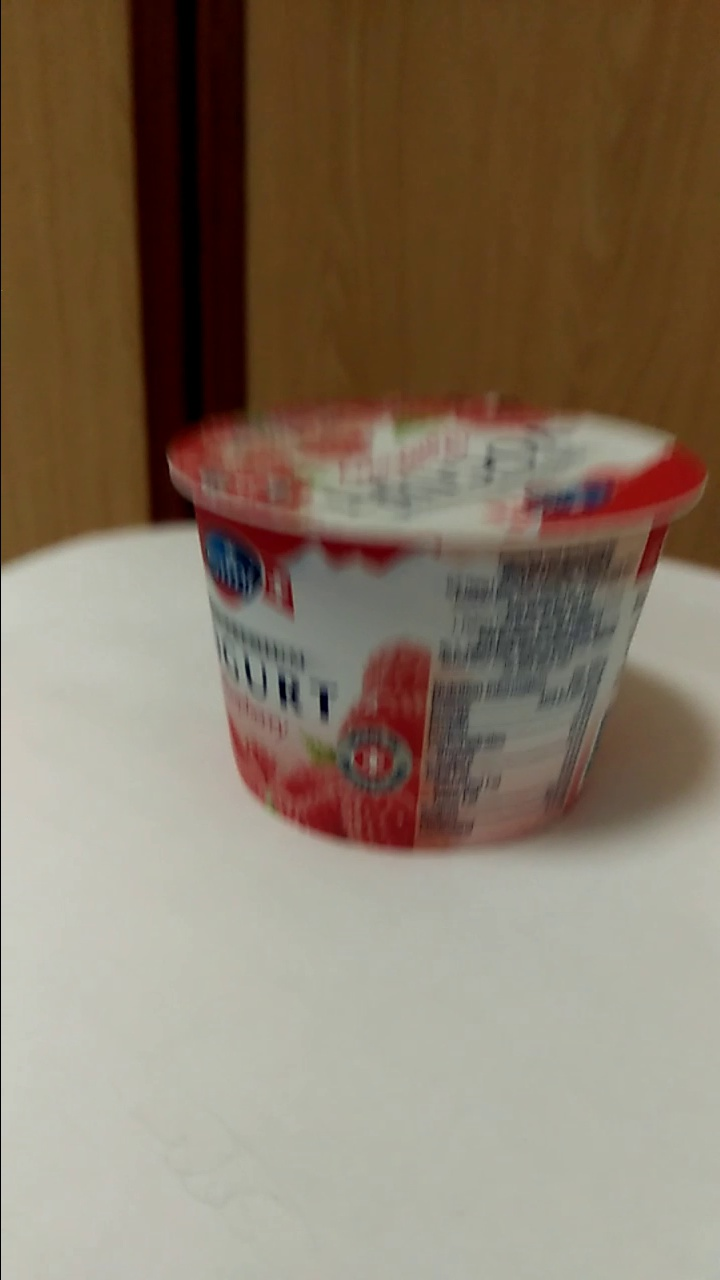yogurt: (174, 392, 707, 861)
